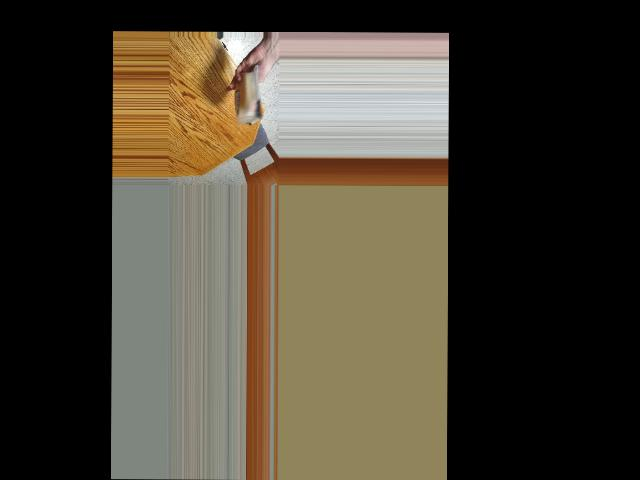cheese: (228, 70, 267, 123)
